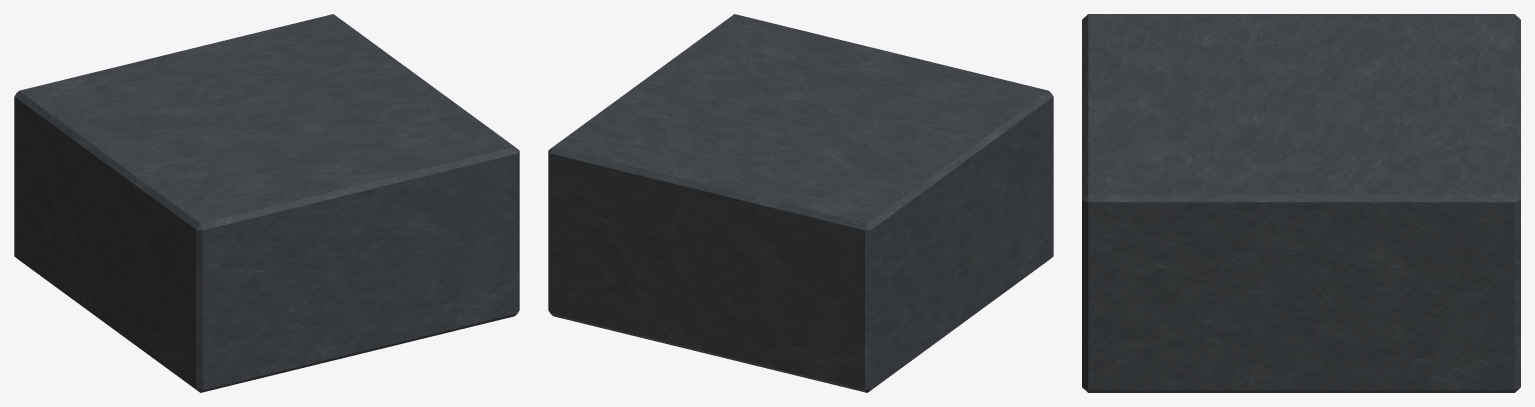
File: train_sheet_metal_slab.gltf
3 views of the same model, side by side, from view 1: azimuth 30°, elevation 25°; view 2: azimuth 150°, elevation 25°; view 3: azimuth 270°, elevation 25° (orthographic). The views are drawn at different scales.
Bounding box in the file's own units: 1 × 0.5 × 1.
Materials: 2 (2 with a texture image).
